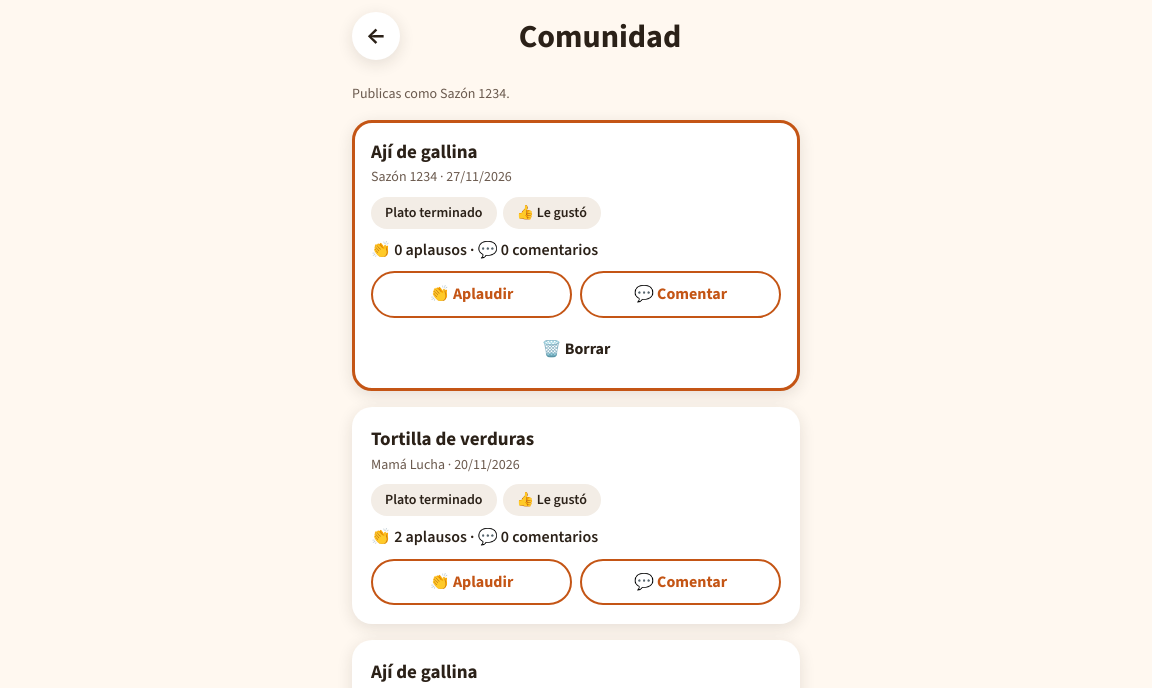
Test case: CommunityScreen › con el diálogo de borrar abierto, "confirma" borra y no aplaude (RF-33)
The width and height of the screenshot is (1152, 688).
Click the button "🗑️ Borrar" at coordinates (576, 349), box [371, 326, 781, 372]
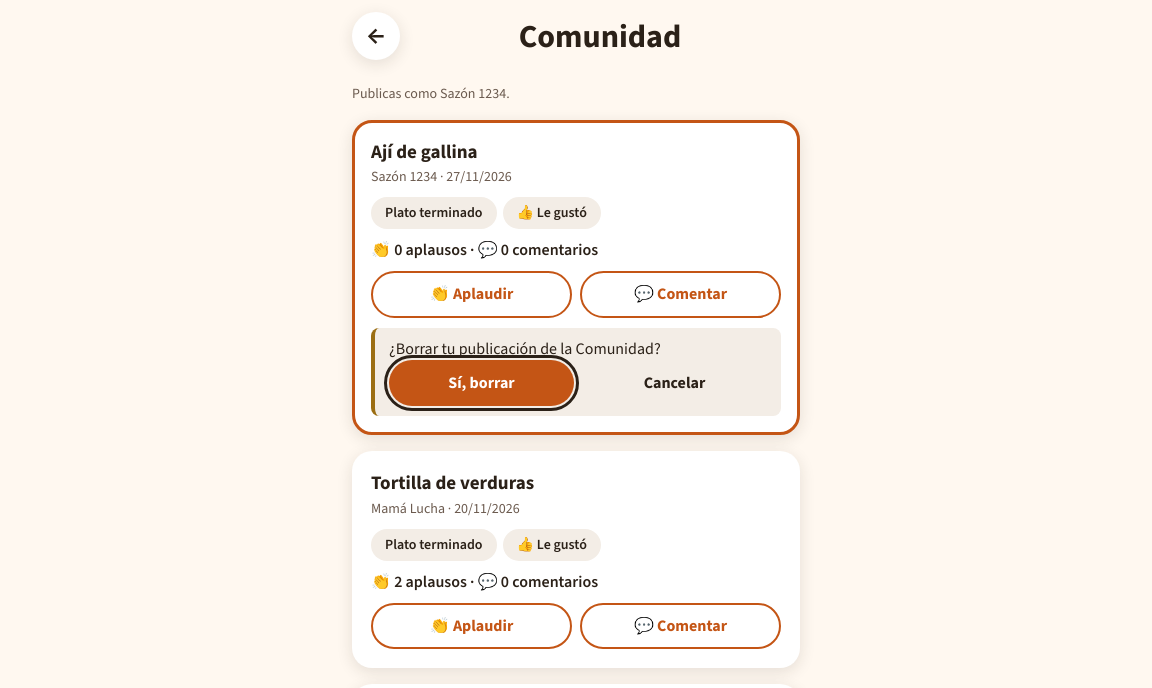
Expected: the dialog is shown, [371, 328, 781, 416]
